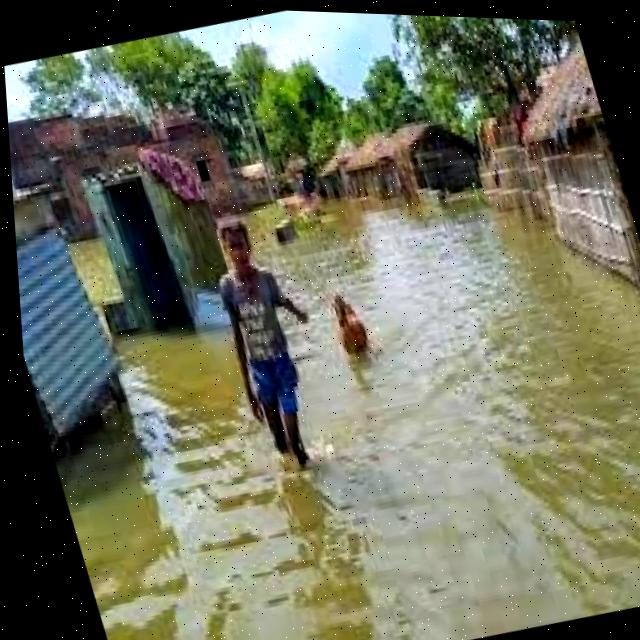civilian: (190, 196, 358, 489)
